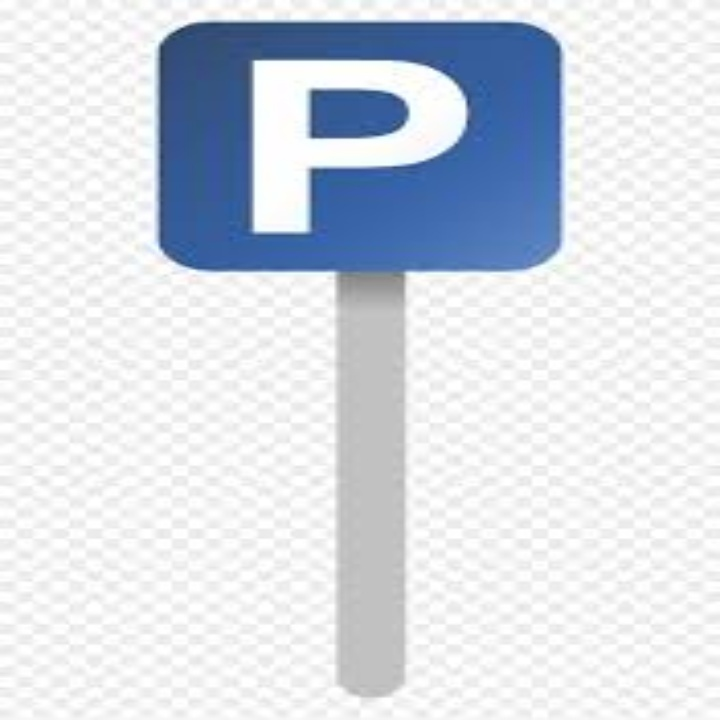parking: (245, 52, 474, 238)
